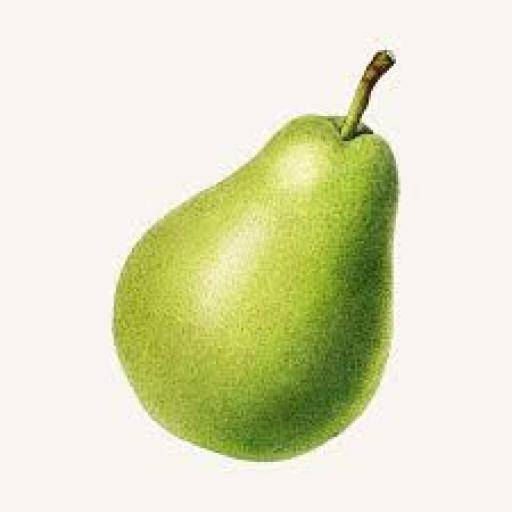pear: (79, 23, 439, 463)
